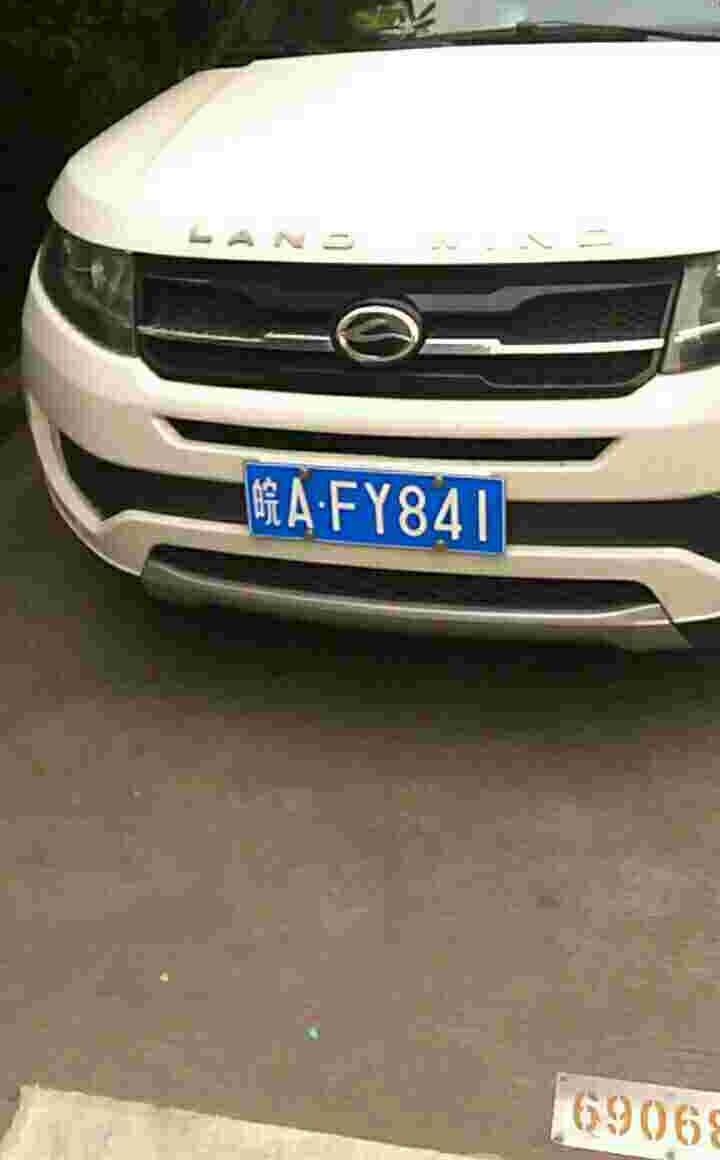license_plate: (246, 463, 508, 558)
